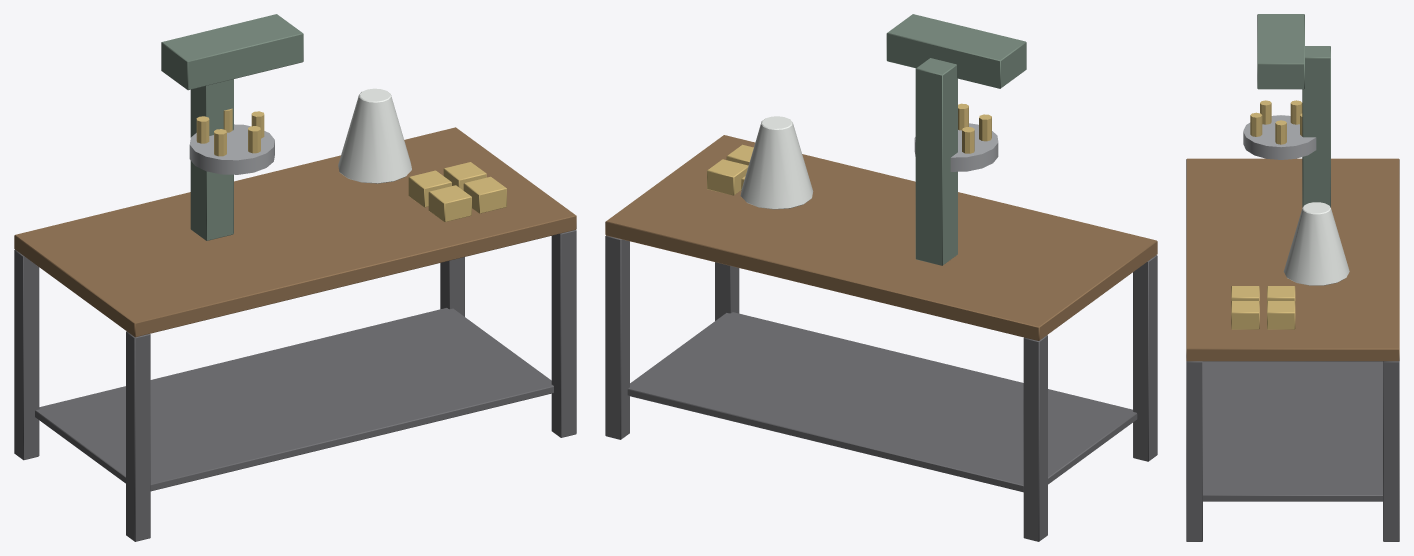
Rendered from feM_Ammo.fbx.
3 views of the same model, side by side, from view 1: azimuth 30°, elevation 25°; view 2: azimuth 150°, elevation 25°; view 3: azimuth 270°, elevation 25° (orthographic). The views are drawn at different scales.
Visible parts, largest first — view 1: feM_Ammo_Base, FeSpin_x0.5_Turret; view 2: feM_Ammo_Base, FeSpin_x0.5_Turret; view 3: feM_Ammo_Base, FeSpin_x0.5_Turret.
Boxes of the visible parts, left/top/right/bottom form: feM_Ammo_Base: left=14, top=14, right=576, bottom=541; FeSpin_x0.5_Turret: left=189, top=108, right=274, bottom=174; feM_Ammo_Base: left=605, top=14, right=1157, bottom=541; FeSpin_x0.5_Turret: left=914, top=103, right=998, bottom=171; feM_Ammo_Base: left=1186, top=14, right=1399, bottom=541; FeSpin_x0.5_Turret: left=1243, top=100, right=1316, bottom=159.
Bounding box in the file's own units: 1.9 × 1.76 × 0.9.
